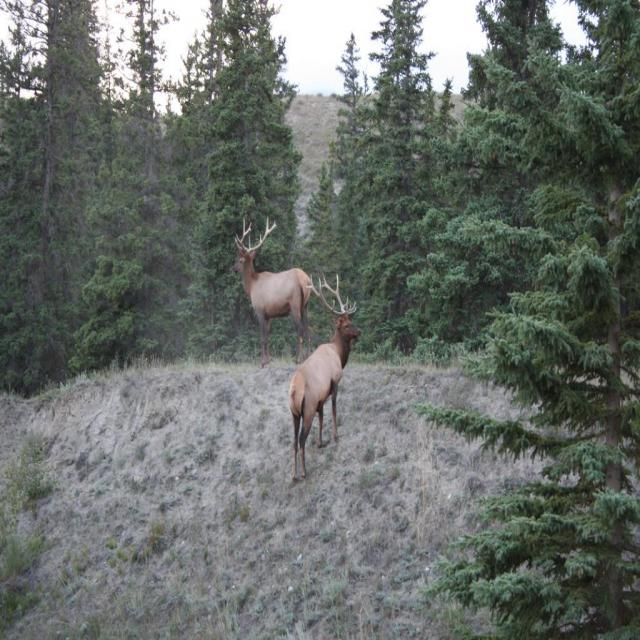Deer: (287, 274, 360, 478), (236, 217, 308, 358)
